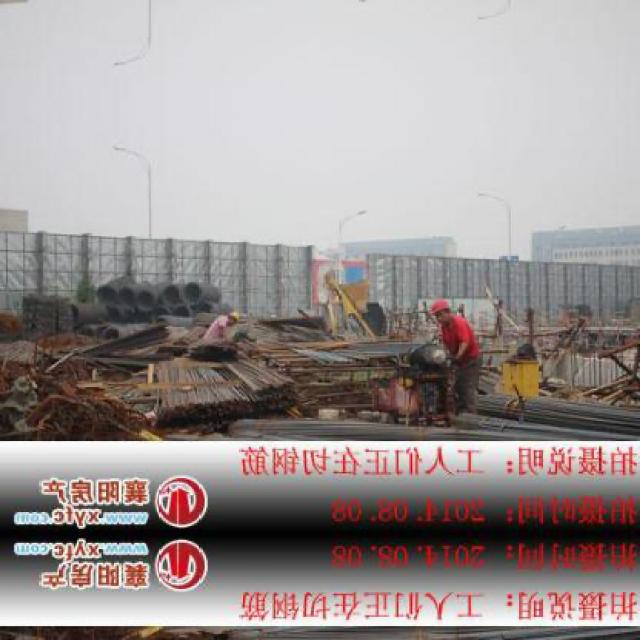helmet: (429, 296, 451, 325), (226, 307, 243, 325)
